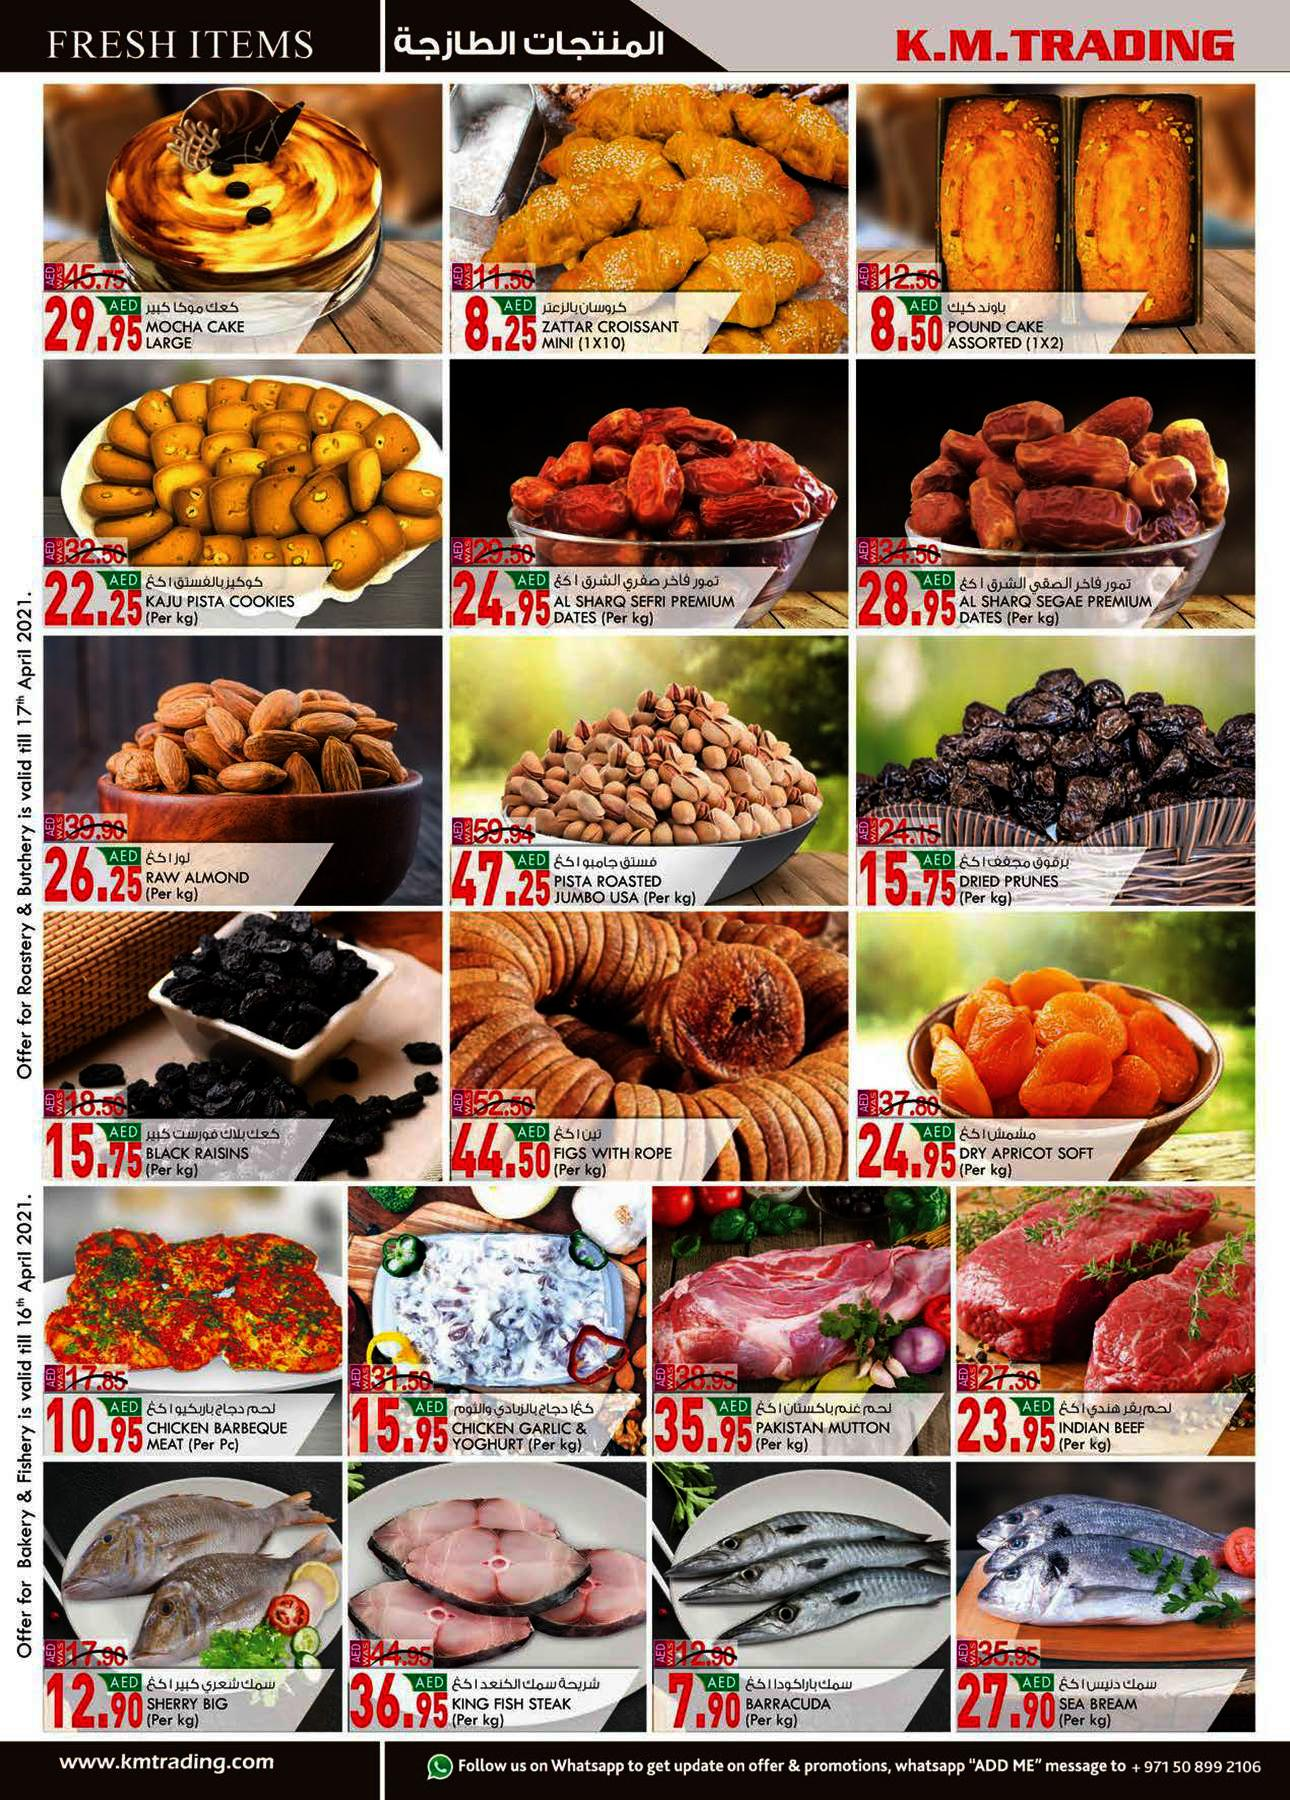text: (956, 569, 1173, 629), (550, 567, 752, 629), (450, 1670, 611, 1736), (142, 1394, 300, 1460), (142, 568, 309, 629), (954, 1120, 1109, 1186), (450, 1397, 607, 1460), (533, 293, 691, 356), (551, 848, 713, 908), (940, 292, 1076, 359), (550, 1120, 690, 1183), (142, 1673, 286, 1733), (754, 1395, 905, 1453), (142, 1122, 292, 1179), (141, 292, 275, 354), (740, 1670, 867, 1736), (956, 847, 1097, 906), (142, 844, 271, 906), (1058, 1395, 1185, 1455), (1055, 1672, 1174, 1732)
